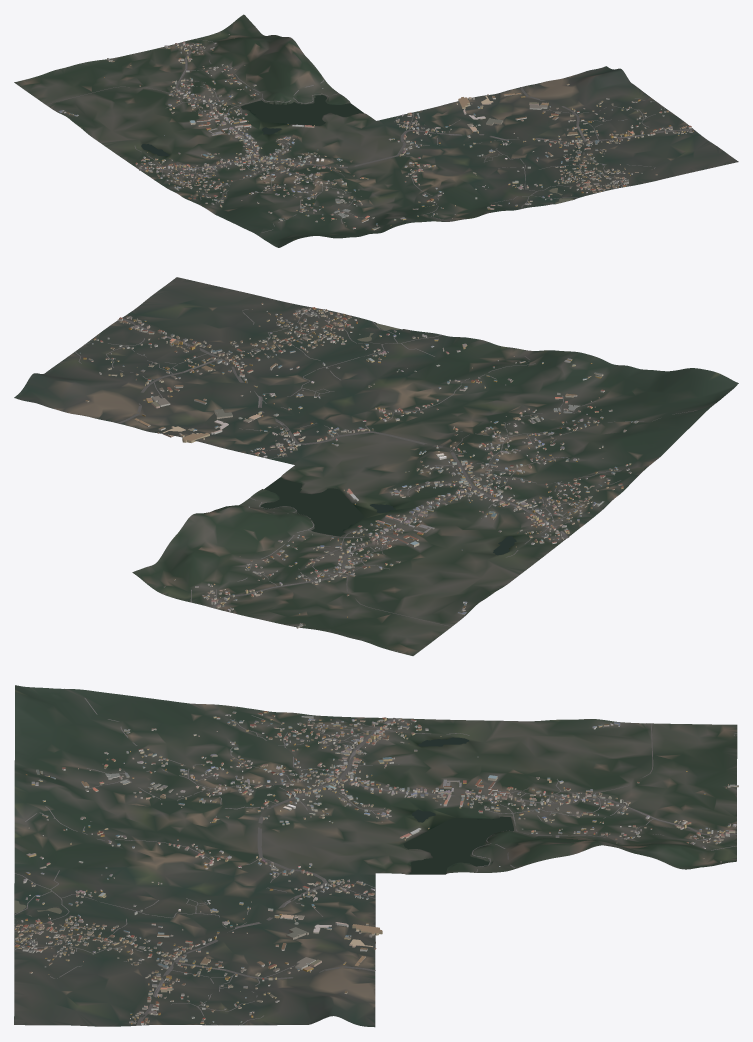
3 views of the same model, one above another, from view 1: azimuth 30°, elevation 25°; view 2: azimuth 150°, elevation 25°; view 3: azimuth 270°, elevation 25° (orthographic). The views are drawn at different scales.
Visible parts, largest first — view 1: ground, buildings, roads, water; view 2: ground, buildings, roads, water; view 3: ground, buildings, roads, water.
Boxes of the visible parts, x1,y1,x2,y2 form: ground: (14,14,738,247); buildings: (58,34,693,230); roads: (27,38,693,232); water: (141,95,574,203); ground: (14,277,738,655); buildings: (80,302,638,628); roads: (75,307,696,652); water: (260,323,516,555); ground: (14,685,737,1027); buildings: (14,711,738,1025); roads: (14,688,736,1025); water: (14,737,513,916).
Bounding box in the file's own units: 2808 × 202 × 2814.
